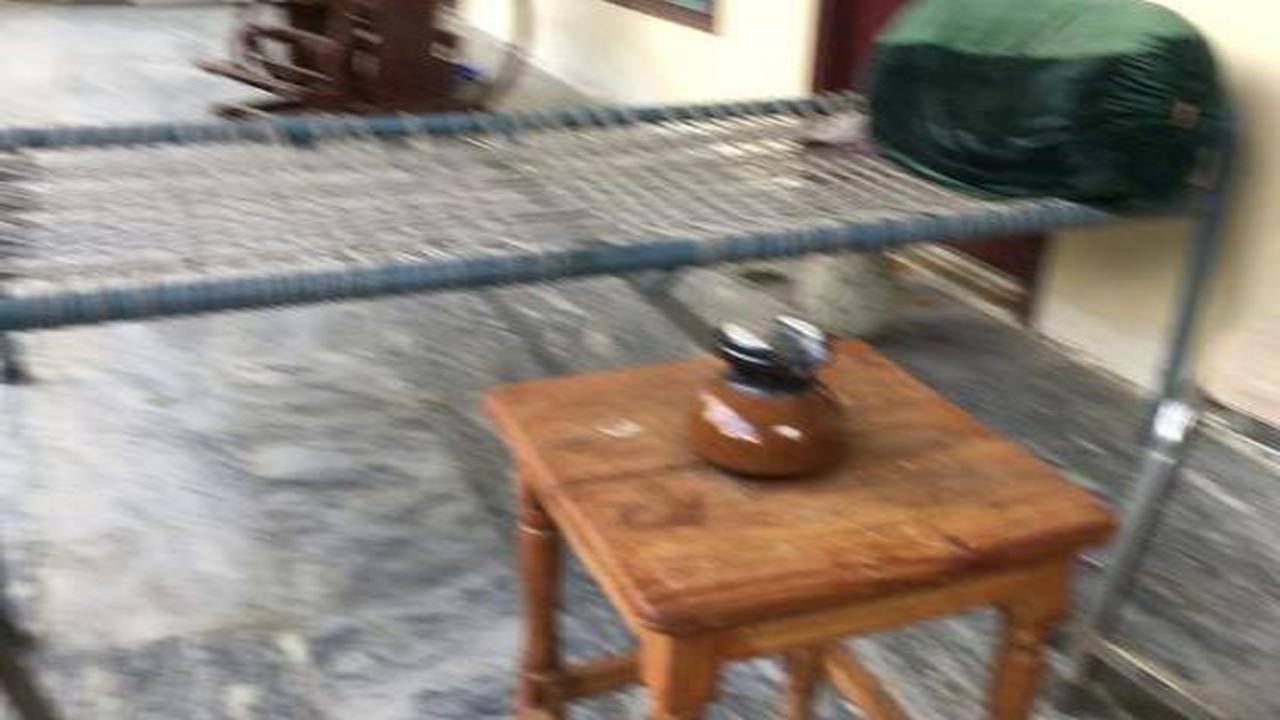insulator_pin: (671, 303, 874, 496)
